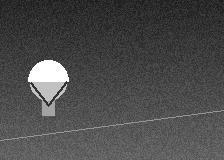helmet: (28, 60, 68, 105)
